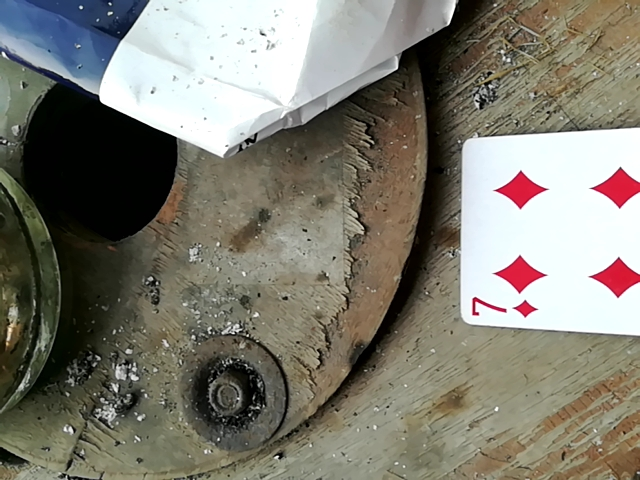fk 7: (445, 114, 636, 338)
